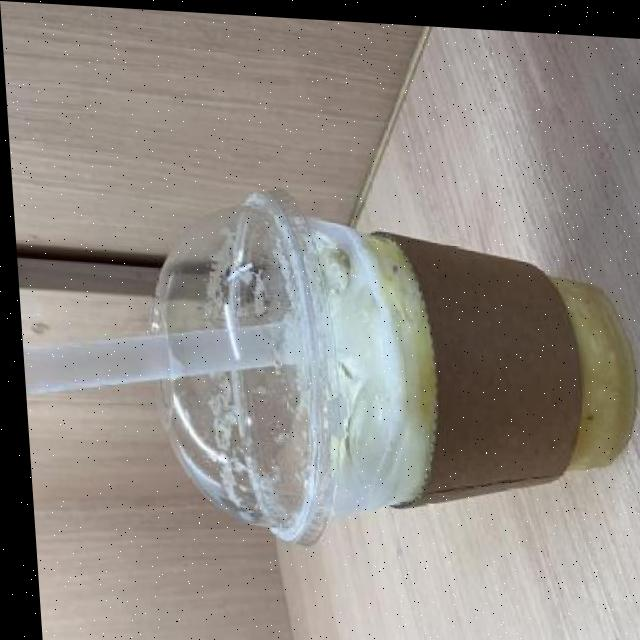cup: (136, 175, 640, 592)
